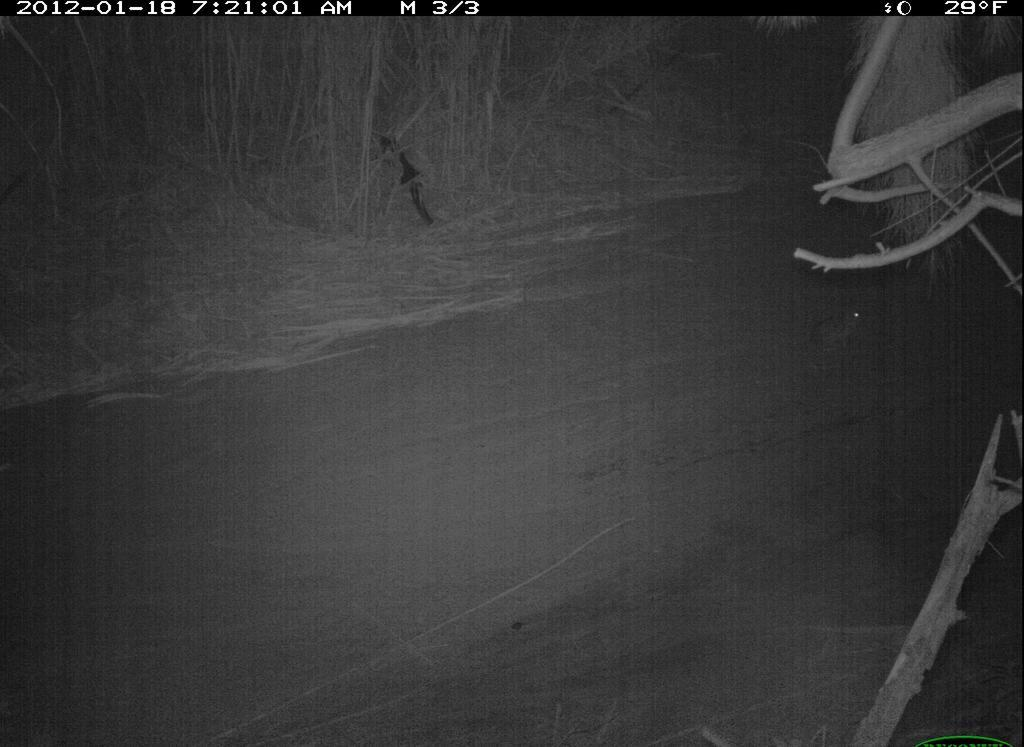rabbit: (798, 281, 871, 359)
